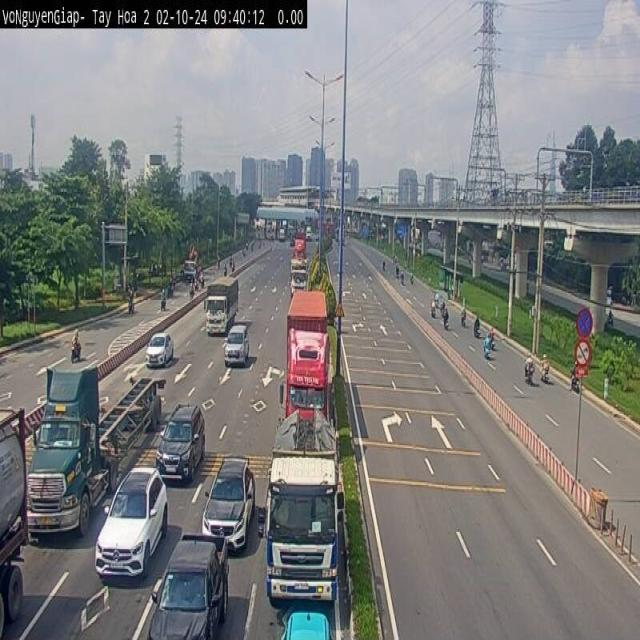car: (145, 518, 229, 640), (98, 448, 168, 576), (200, 458, 260, 556), (158, 398, 208, 496), (222, 322, 257, 375), (276, 612, 341, 640), (139, 321, 177, 366), (281, 260, 320, 294)
container-truck: (24, 342, 160, 530), (0, 402, 31, 634), (287, 290, 333, 428), (287, 229, 313, 262)
motorcycle: (570, 367, 581, 396), (70, 345, 82, 365), (125, 304, 141, 318), (482, 342, 492, 364), (524, 367, 536, 385), (156, 299, 171, 313), (441, 316, 455, 331), (429, 305, 439, 324), (543, 360, 550, 387), (471, 328, 482, 342), (188, 290, 198, 304), (460, 319, 470, 330), (167, 286, 174, 299), (381, 267, 388, 276), (410, 277, 415, 287), (400, 278, 406, 286)
person: (571, 357, 580, 382), (524, 349, 532, 373), (542, 348, 550, 370), (159, 284, 168, 303), (73, 326, 81, 347), (128, 290, 136, 308), (488, 323, 495, 341), (380, 258, 388, 273), (461, 306, 467, 322), (189, 277, 195, 292), (399, 269, 405, 283), (199, 271, 205, 284), (435, 290, 440, 305), (475, 315, 480, 327), (224, 258, 228, 273), (444, 306, 448, 320), (432, 298, 436, 312), (441, 299, 445, 313), (410, 268, 414, 280), (232, 259, 236, 269)
truck: (267, 414, 346, 611), (207, 268, 241, 348), (181, 235, 202, 287)
